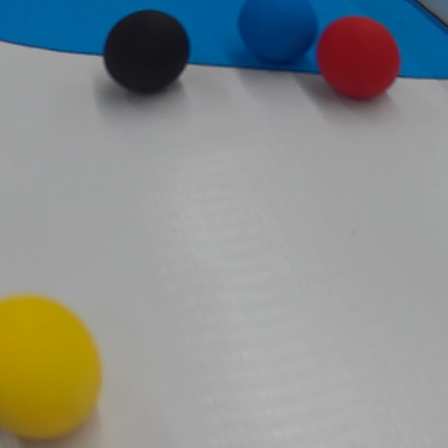black: (105, 13, 193, 93)
blue: (240, 0, 318, 72)
blue_base: (0, 0, 445, 84)
red: (322, 15, 401, 110)
yellow: (0, 289, 105, 444)
